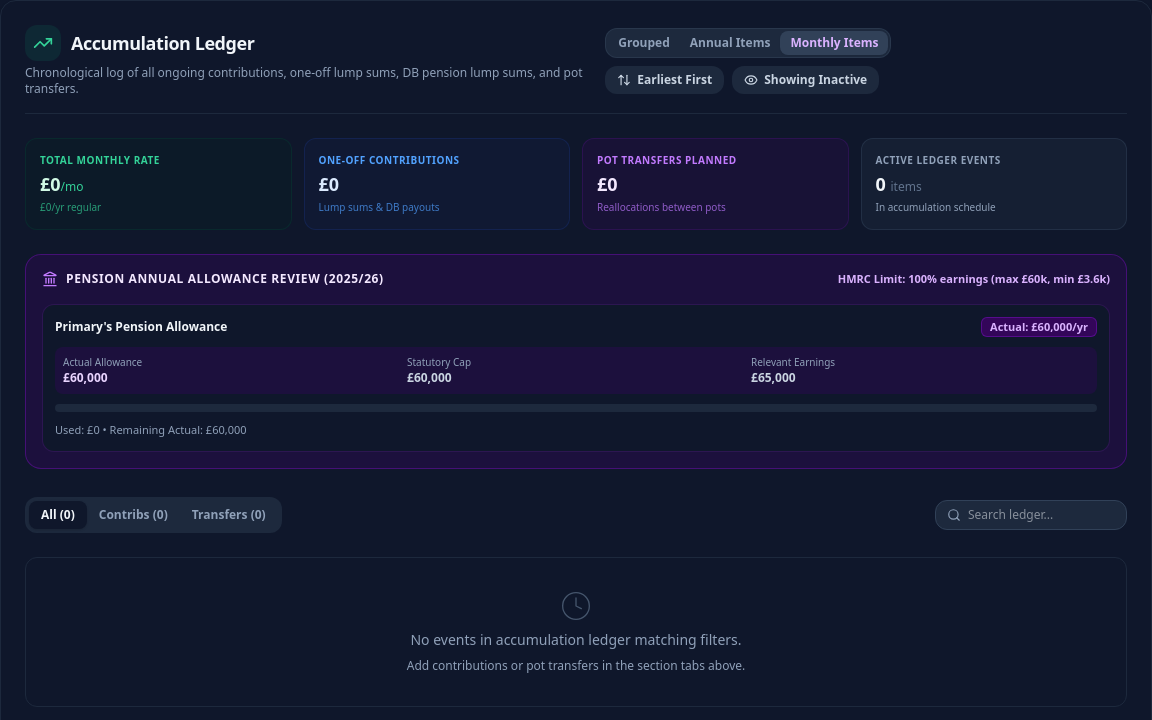
Test case: AccumulationLedgerCard Component › toggles showing inactive events filter
The width and height of the screenshot is (1152, 720).
What coordinates should you click on to do the following:
click the button "Showing Inactive"
I would click on:
 (806, 80)
Its box is [732,66,879,94].
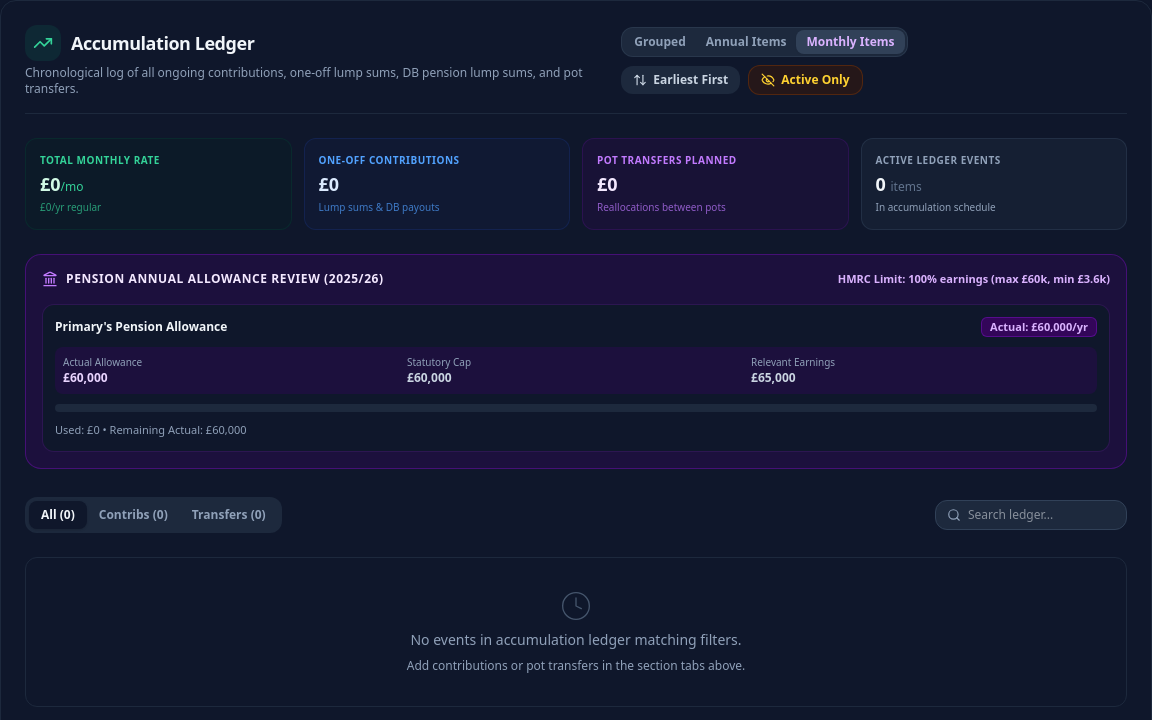
Expected: the button "Active Only" is shown, [748,65,863,95]
